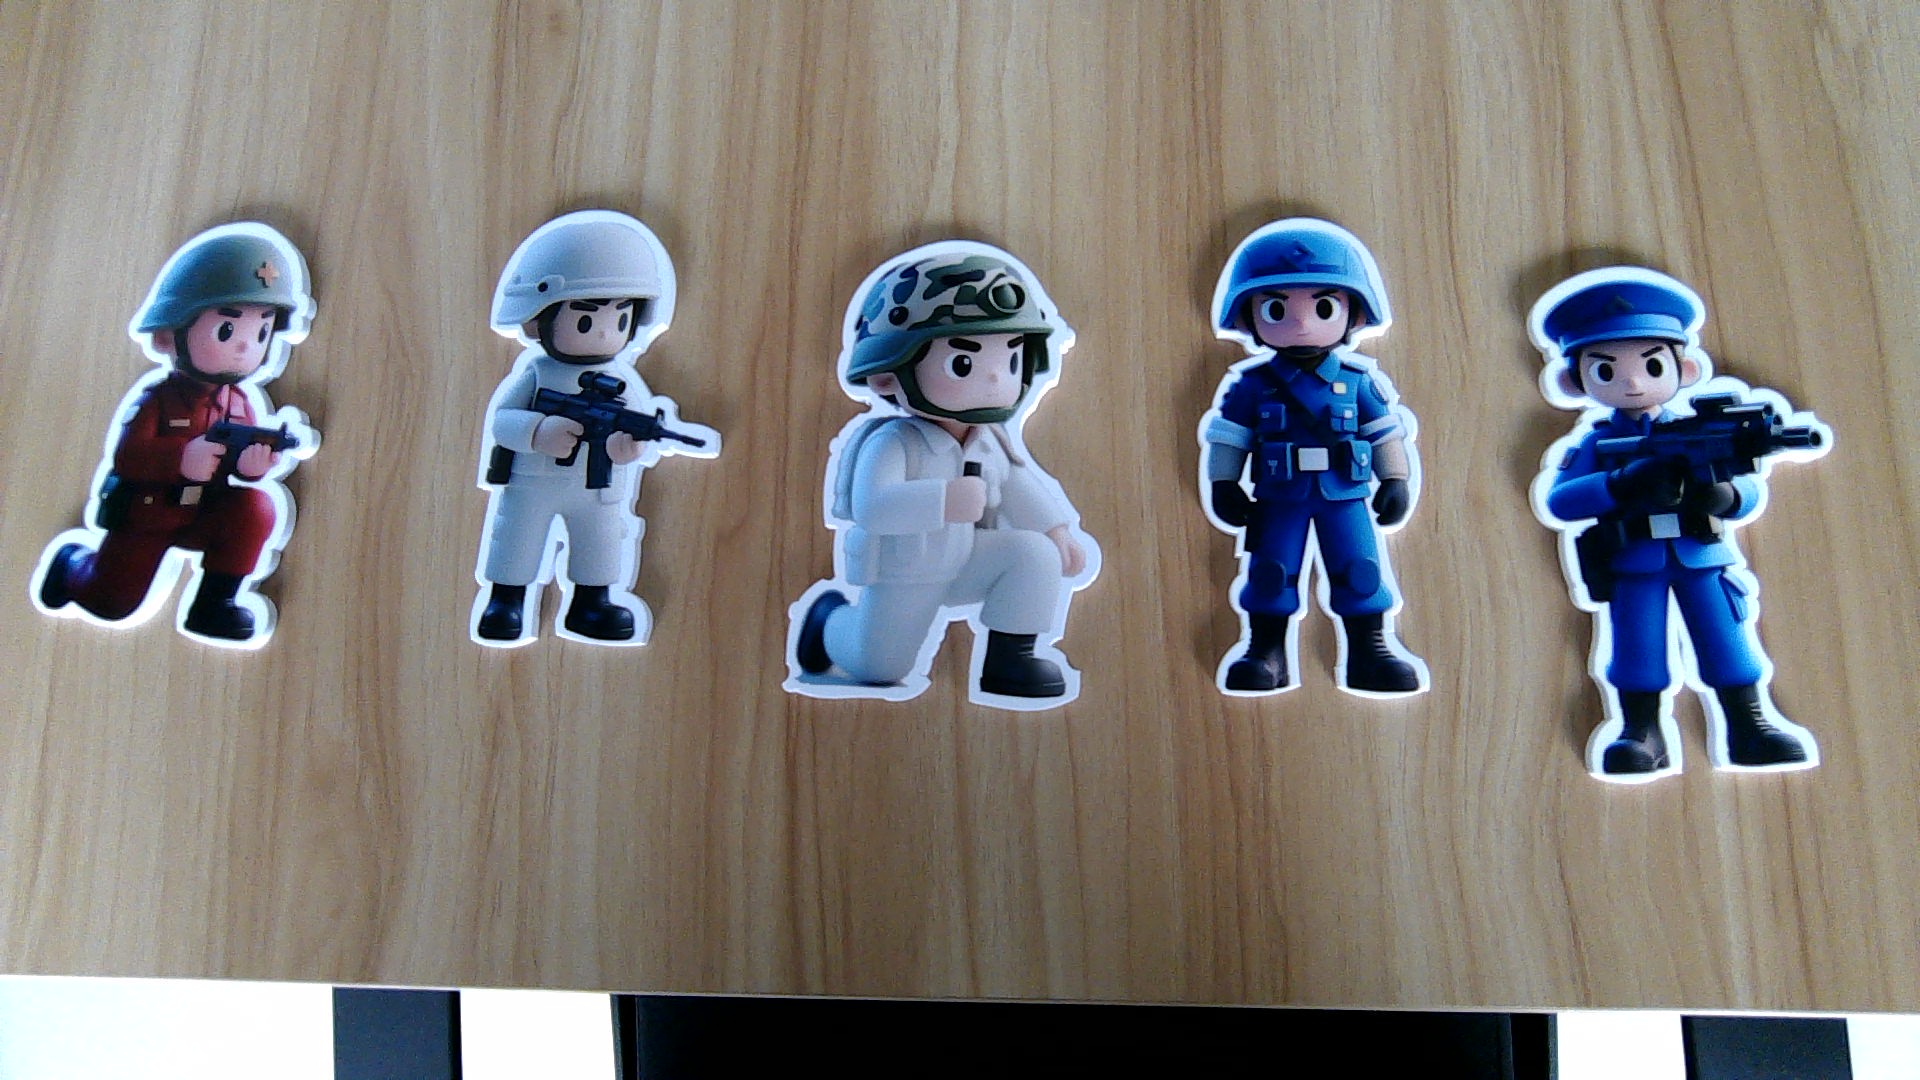人质: (779, 419, 1100, 711), (473, 360, 713, 657)
敌人1: (26, 390, 314, 651)
敌人2: (1511, 400, 1850, 798), (1193, 357, 1445, 702)
